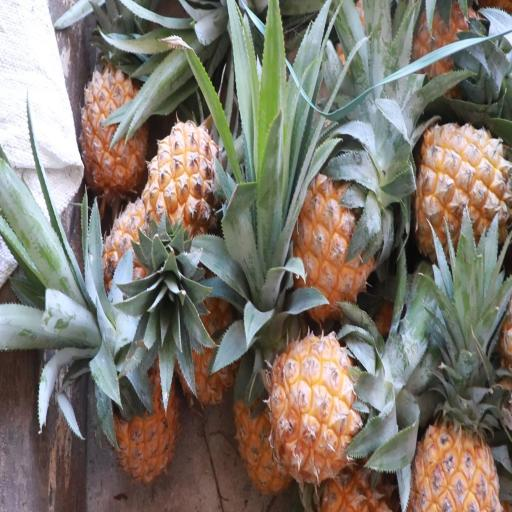Pineapple - v8 v1: (401, 281, 501, 512), (265, 319, 370, 490), (407, 120, 512, 272), (286, 161, 381, 329), (102, 305, 186, 491), (134, 116, 223, 253), (76, 62, 152, 204)
